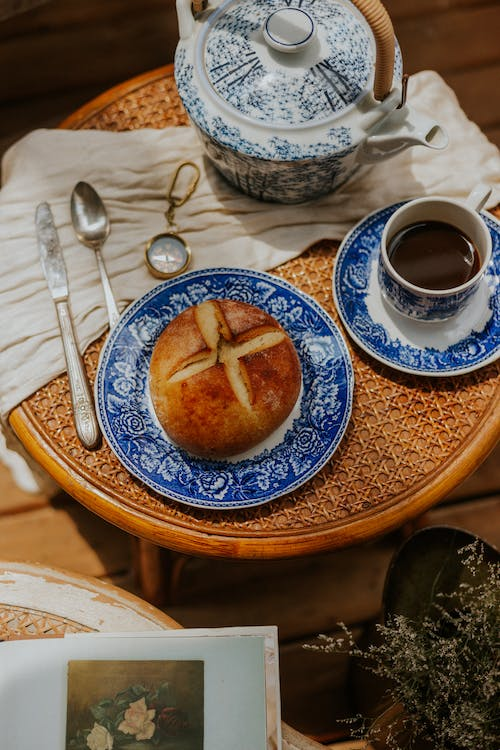knife: (35, 197, 102, 452)
